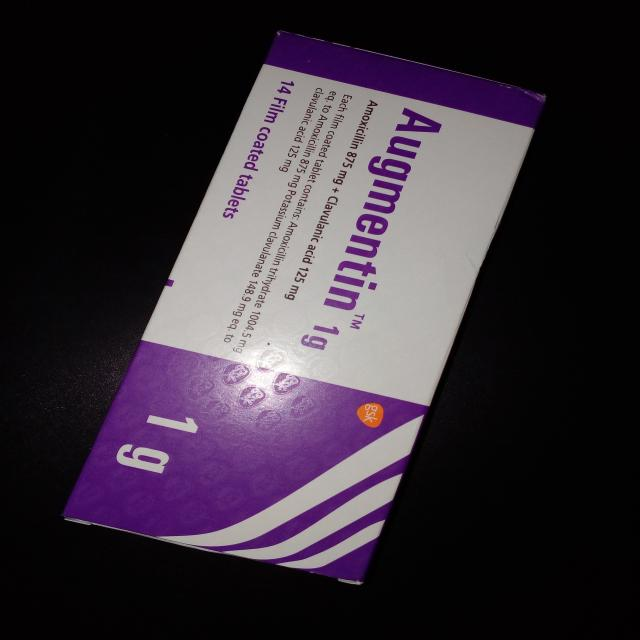Medicine: (61, 27, 544, 586)
